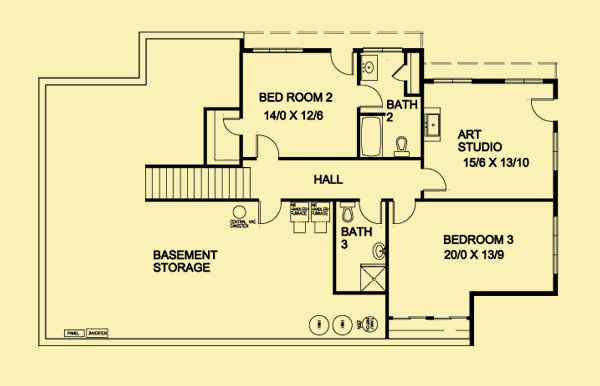door: (528, 95, 559, 124), (418, 164, 448, 193), (356, 196, 384, 225), (390, 197, 418, 226), (357, 83, 385, 110), (254, 132, 280, 161), (257, 197, 283, 226), (329, 47, 354, 77), (220, 114, 242, 136), (390, 61, 408, 83)
large sink: (390, 134, 414, 159), (337, 199, 357, 226)
small sink: (360, 54, 379, 83), (369, 234, 386, 263)
stairs: (142, 161, 257, 202)
tub: (357, 113, 385, 159)
windows: (247, 44, 306, 57), (550, 213, 561, 275), (360, 43, 403, 56), (431, 74, 473, 86), (501, 76, 544, 87), (551, 130, 560, 177)
